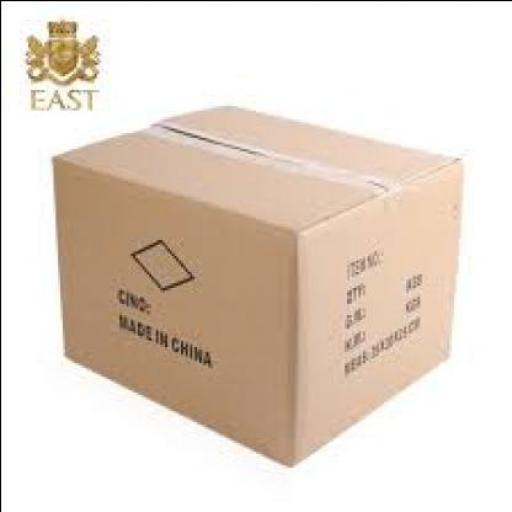cardboard: (48, 103, 459, 462)
